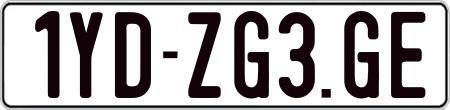1: (32, 11, 57, 101)
3: (277, 10, 313, 97)
D: (113, 10, 150, 96)
E: (388, 11, 422, 99)
G: (341, 8, 382, 101), (231, 10, 268, 103)
Y: (68, 9, 102, 100)
Z: (186, 10, 219, 100)
